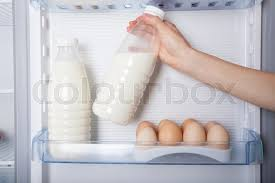milk: (96, 5, 158, 120), (49, 34, 92, 151)
